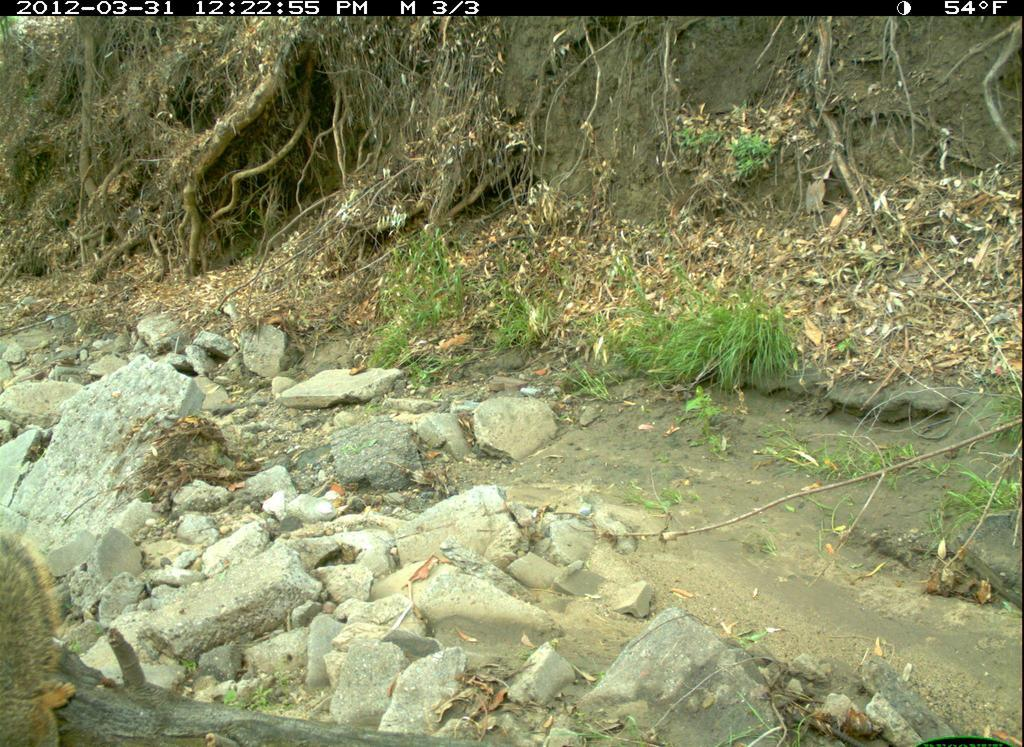squirrel: (1, 512, 90, 747)
